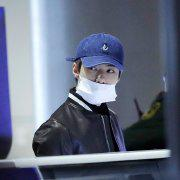WRONG: (80, 61, 122, 103)
